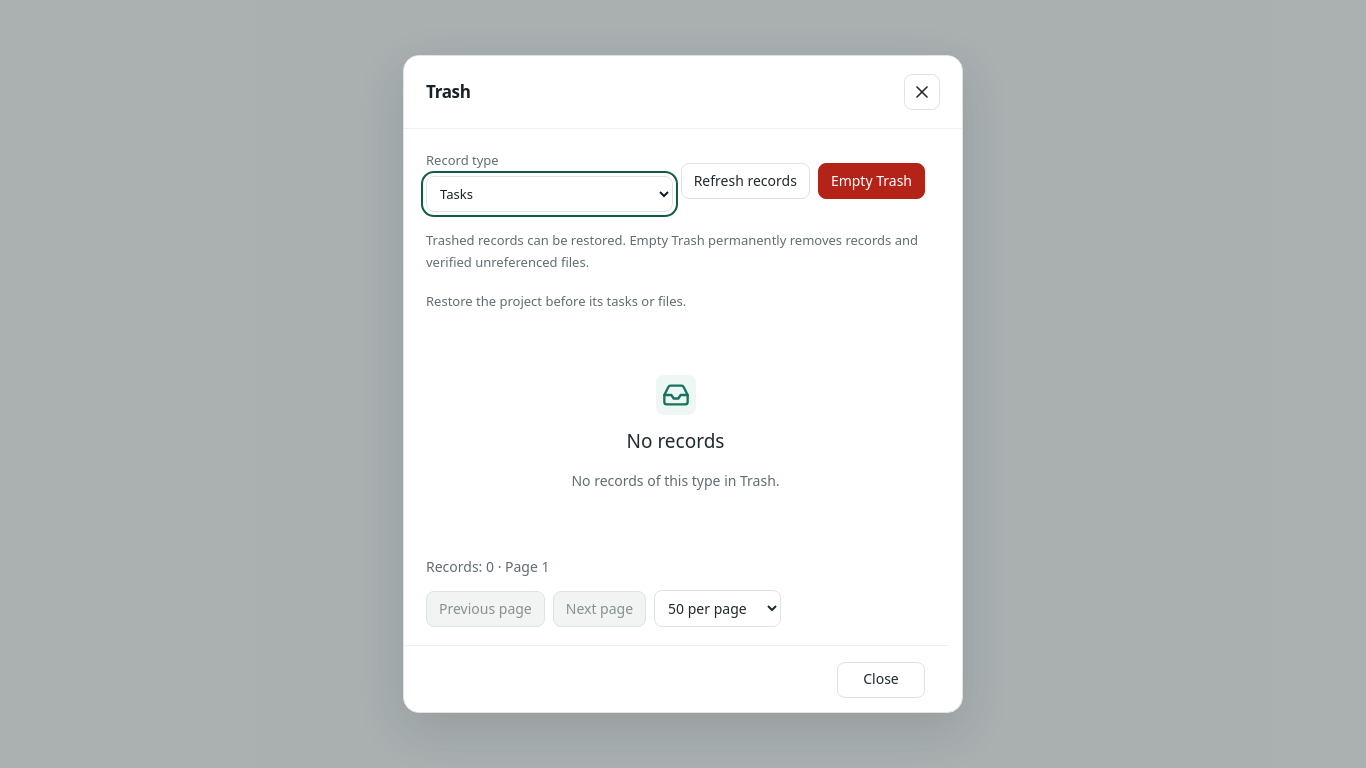
it: offers one all-type/all-page clear even when the selected trash category is empty
The image size is (1366, 768).
Click the button "Empty Trash" at [871, 182], box top-left (818, 164), bottom-right (925, 200)
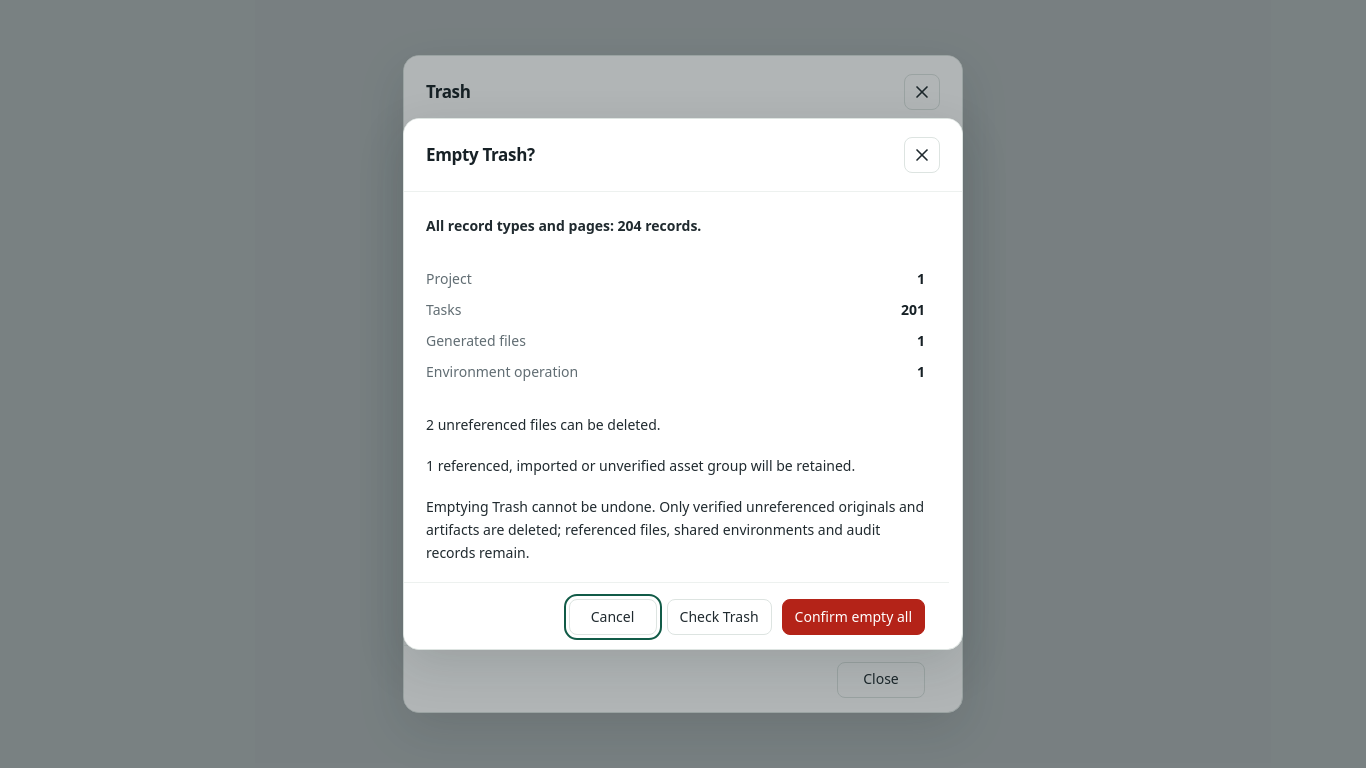
Expected: the text "Trashed records can be restored. Empty Trash permanently removes records and verified unreferenced files." is shown, top-left (426, 231), bottom-right (918, 271)
Result: the text "All record types and pages: 204 records." is shown at top-left (426, 216), bottom-right (701, 234)
Click the button "Confirm empty all" at [853, 618], box top-left (782, 600), bottom-right (925, 636)
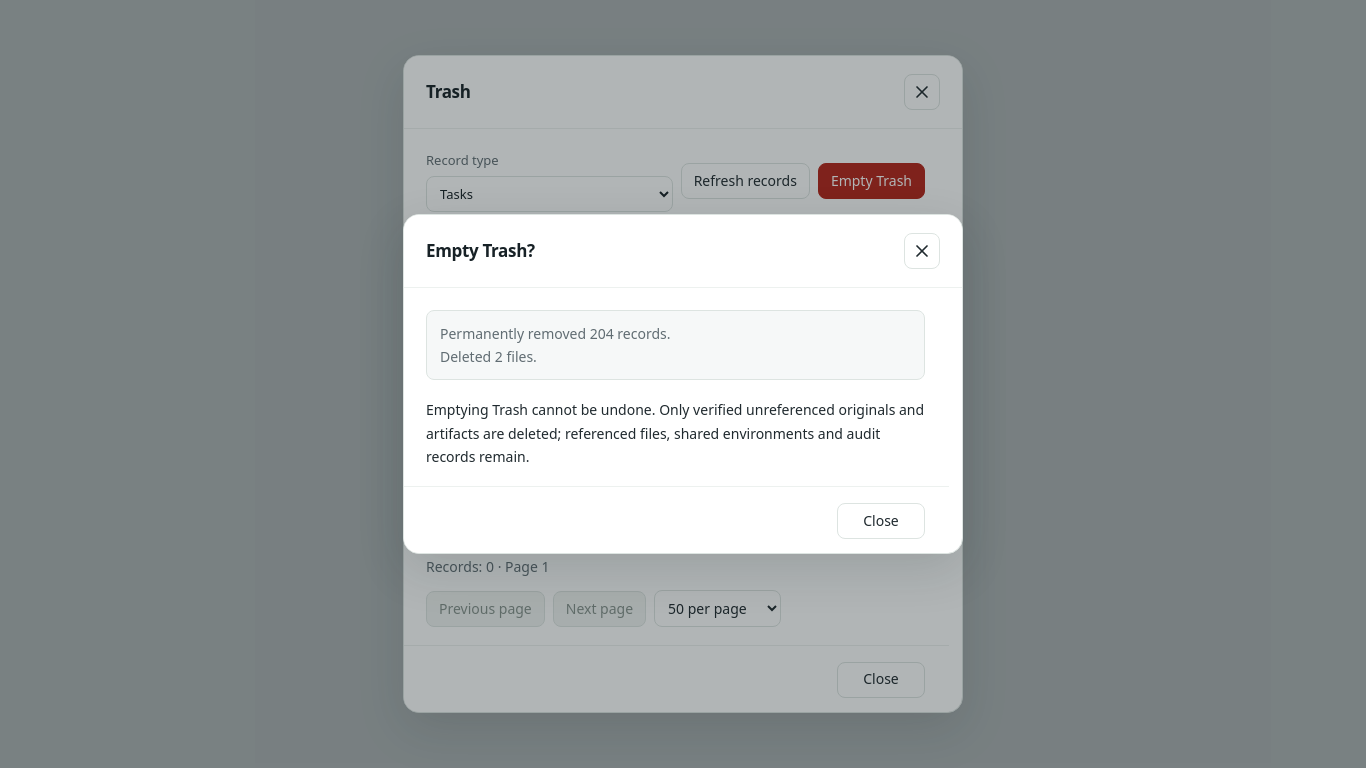
Result: the text "Permanently removed 204 records." is shown at top-left (440, 324), bottom-right (670, 343)
